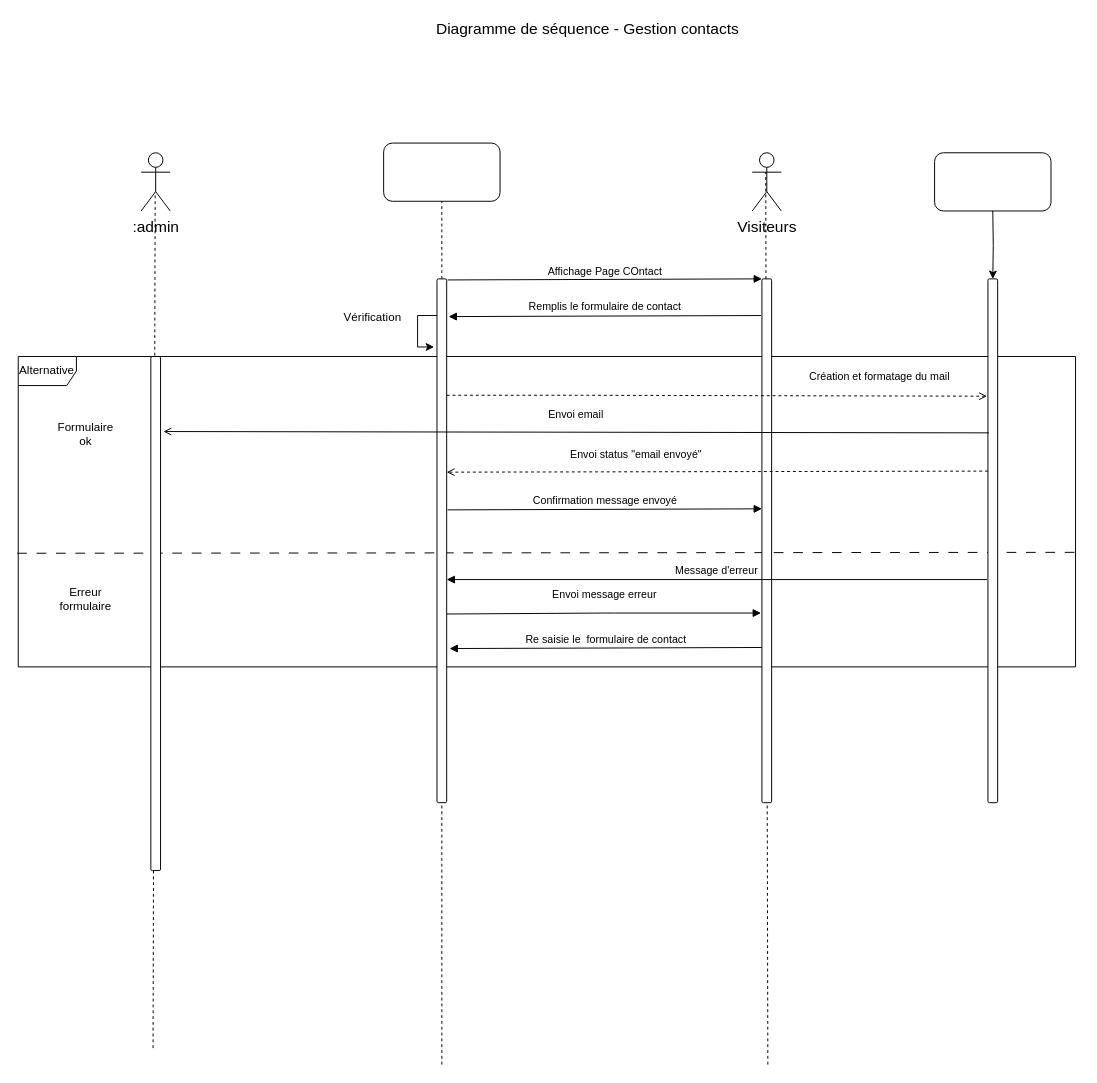
The diagram is 1097 pixels wide and 1083 high, and some of its shapes have lost their labels. The shapes that lost their labels are listed below. From the top down, each one's centre as x and y in pixels, then its label:
point (441, 171): :system
point (992, 181): :System "Serveur email"
